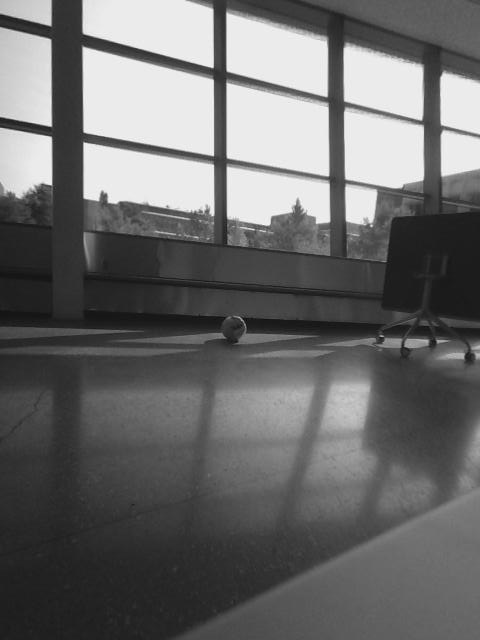ball: (220, 314, 250, 343)
